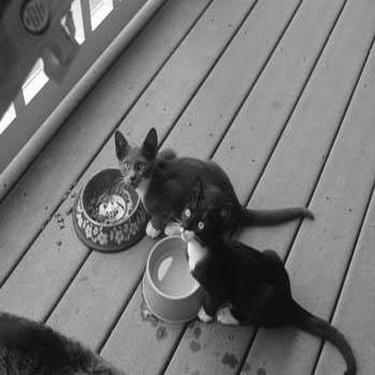cat: (177, 175, 355, 372), (112, 127, 314, 241)
